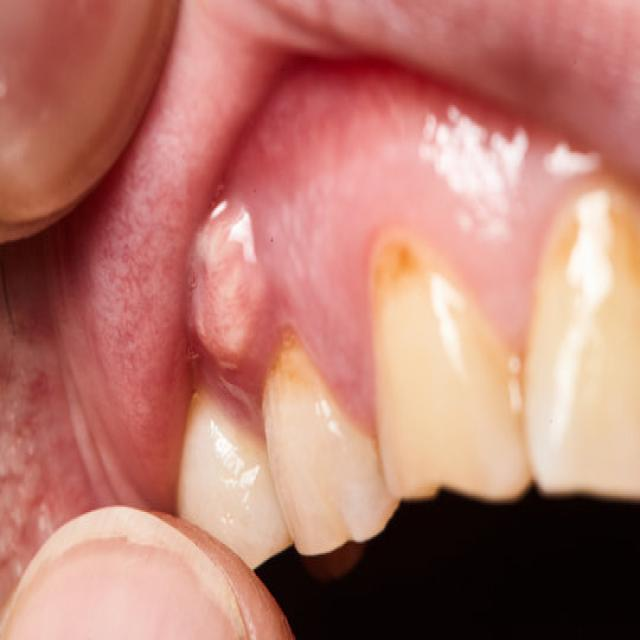abscess: (180, 193, 255, 386)
